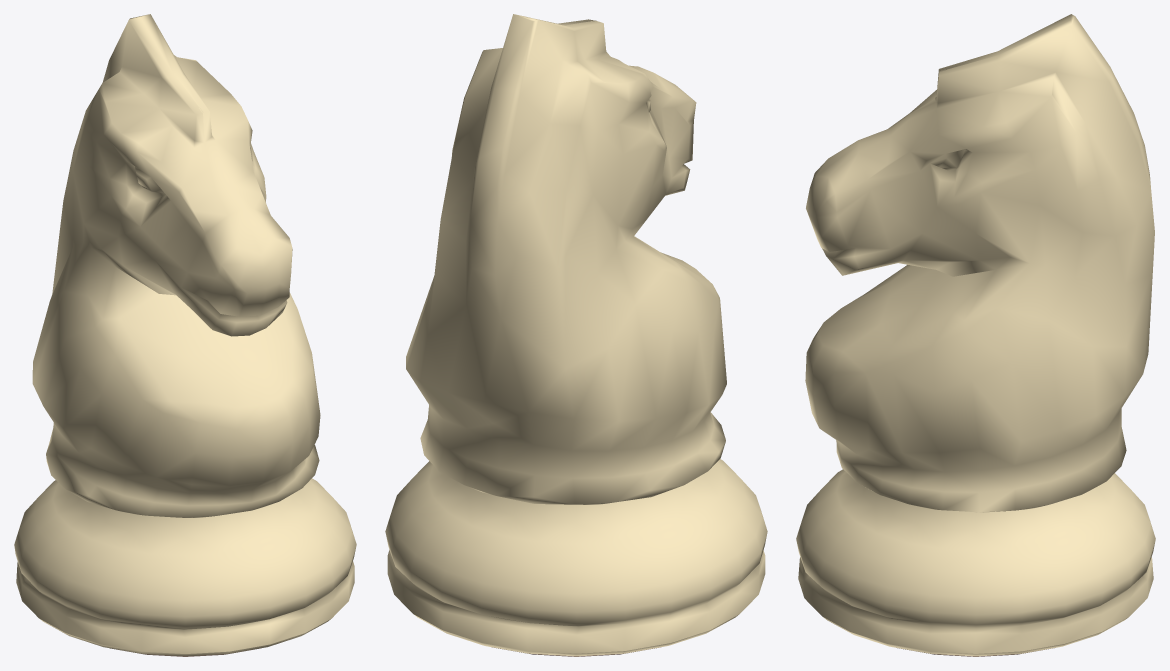
The model's file is xadrez_cavalo_branco_pacote.glb.
The picture shows the model from 3 angles, left to right: view 1: azimuth 30°, elevation 25°; view 2: azimuth 150°, elevation 25°; view 3: azimuth 270°, elevation 25°; orthographic projection. The views are drawn at different scales.
Parts seen in each view (by area): view 1: xadrez_cavalo_branco_pacote; view 2: xadrez_cavalo_branco_pacote; view 3: xadrez_cavalo_branco_pacote.
Part boxes in pixels (left/top/right/bottom): xadrez_cavalo_branco_pacote: left=14, top=14, right=356, bottom=656; xadrez_cavalo_branco_pacote: left=385, top=14, right=767, bottom=656; xadrez_cavalo_branco_pacote: left=796, top=14, right=1155, bottom=656.
Bounding box in the file's own units: 0.0368 × 0.0644 × 0.0368.
1 material, 1 textured.
